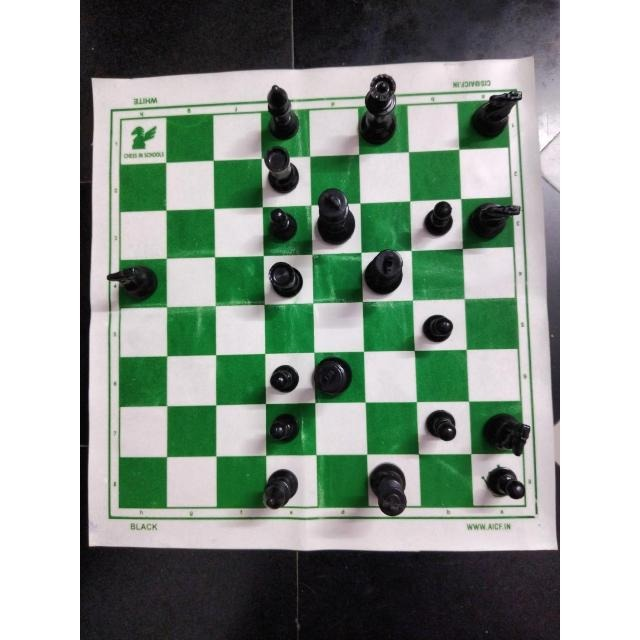black-bishop: (264, 80, 306, 144), (260, 465, 300, 517)
black-king: (314, 182, 361, 254), (364, 457, 416, 521), (359, 244, 411, 300), (311, 353, 360, 405)
black-knight: (464, 88, 529, 144), (476, 401, 536, 456), (462, 196, 525, 244), (106, 262, 164, 308)
black-pawn: (482, 456, 532, 503), (417, 403, 468, 448), (261, 203, 302, 244), (419, 198, 457, 242), (266, 356, 302, 398), (419, 306, 457, 345), (267, 412, 303, 448)
black-queen: (354, 70, 404, 148)
black-rook: (258, 145, 304, 193), (265, 259, 313, 301)
